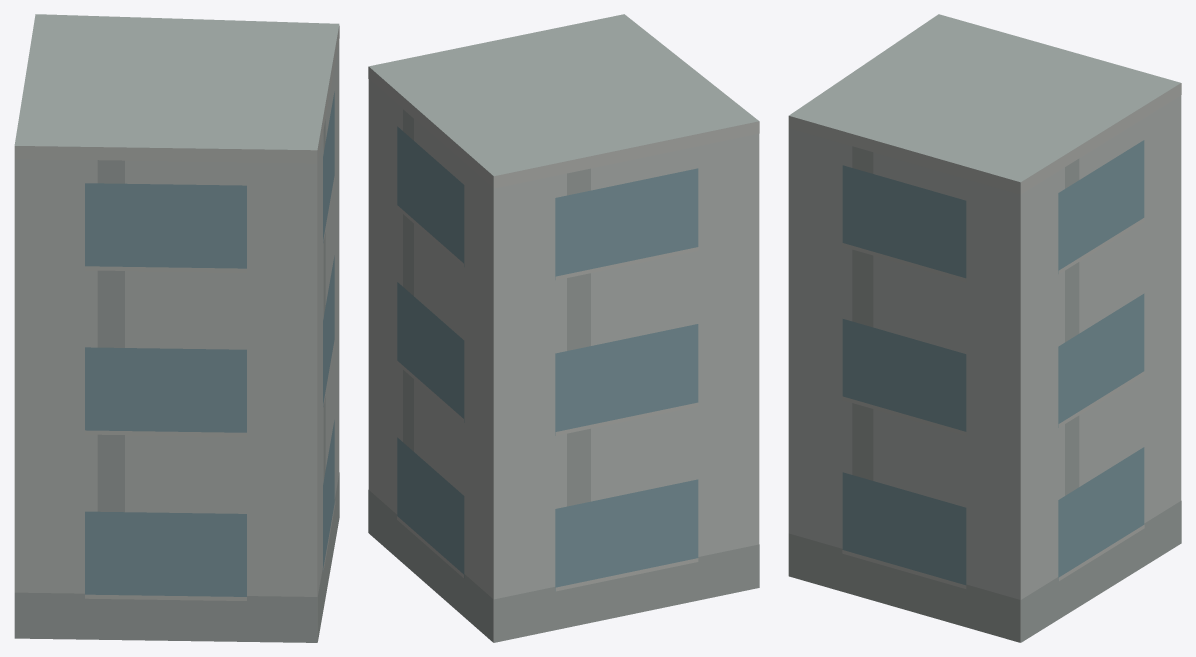
The model's file is survey-upis-32991752.glb.
The picture shows the model from 3 angles, left to right: view 1: azimuth 30°, elevation 25°; view 2: azimuth 150°, elevation 25°; view 3: azimuth 270°, elevation 25°; orthographic projection. The views are drawn at different scales.
Visible parts, largest first — view 1: survey-upis-32991752.tmp; view 2: survey-upis-32991752.tmp; view 3: survey-upis-32991752.tmp.
Part boxes in pixels (left/top/right/bottom): survey-upis-32991752.tmp: left=14, top=14, right=339, bottom=642; survey-upis-32991752.tmp: left=368, top=14, right=759, bottom=642; survey-upis-32991752.tmp: left=788, top=14, right=1181, bottom=642.
Size of the model in its own units: 7.18 by 9.15 by 7.08.
